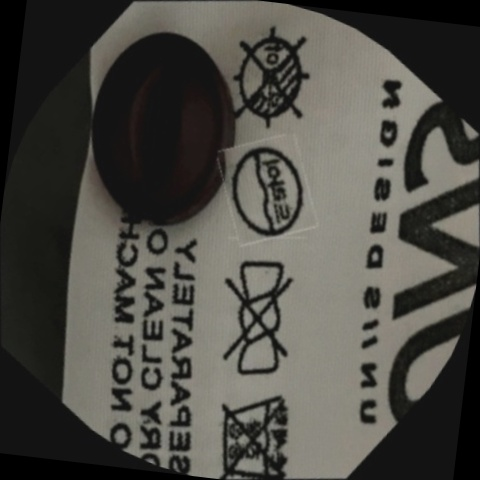DN_dry: (184, 0, 358, 166)
DN_wring: (158, 221, 354, 417)
dry_clean: (187, 111, 346, 271)
hand_wash: (177, 346, 342, 480)
